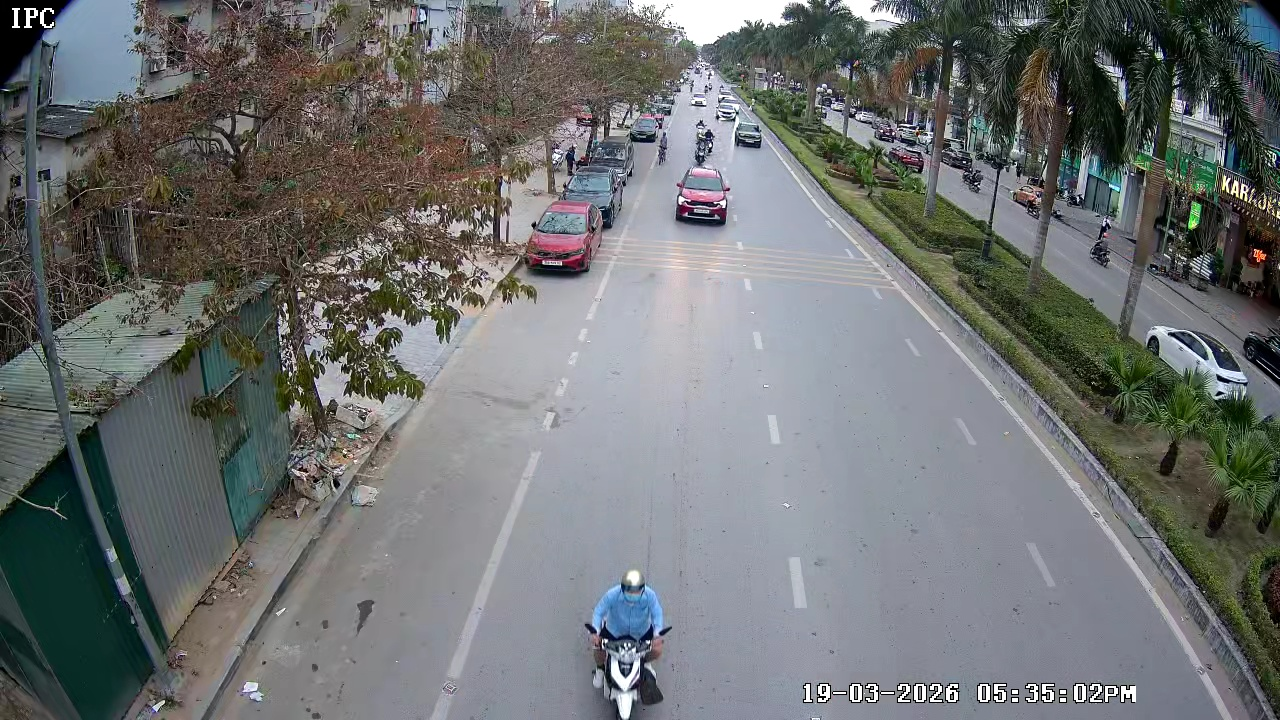car: (1141, 322, 1245, 402), (525, 200, 602, 276), (673, 165, 731, 225), (732, 119, 765, 149)
motorbike: (567, 562, 679, 718)
